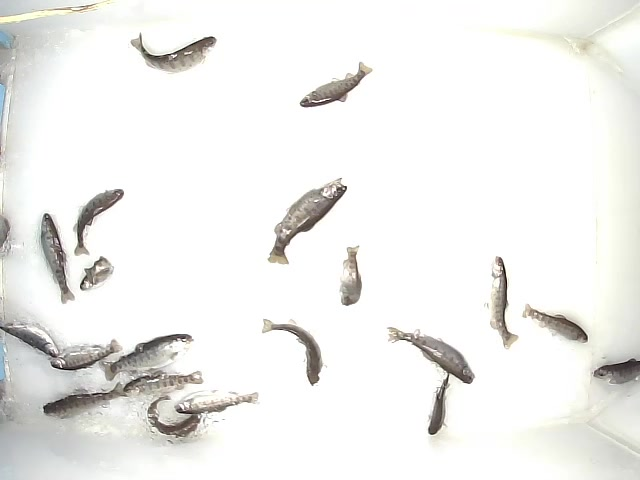fish: (265, 178, 347, 265), (388, 324, 476, 385), (101, 331, 192, 383), (128, 28, 222, 77), (261, 316, 325, 385), (70, 185, 123, 259), (35, 210, 76, 303), (298, 58, 374, 107), (37, 381, 125, 419), (521, 297, 588, 343), (489, 254, 518, 347), (46, 334, 125, 368), (147, 392, 201, 441), (423, 369, 460, 436), (119, 368, 206, 395), (176, 386, 263, 412), (1, 322, 60, 356), (336, 244, 363, 307), (80, 254, 114, 293)
